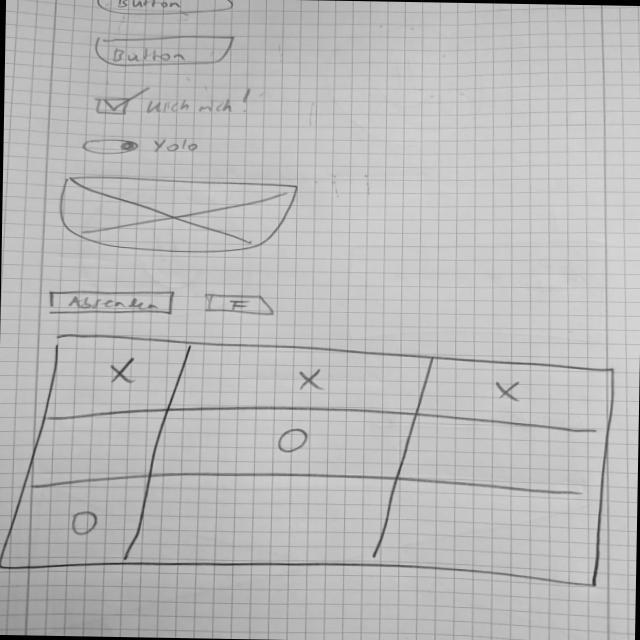button: (88, 32, 241, 71), (46, 287, 179, 318), (92, 1, 237, 16)
checkbox: (91, 84, 257, 122)
icon-button: (202, 291, 277, 318)
image: (59, 174, 300, 256)
table: (1, 331, 619, 589)
text: (150, 135, 203, 157)
toggle: (82, 135, 142, 159)
